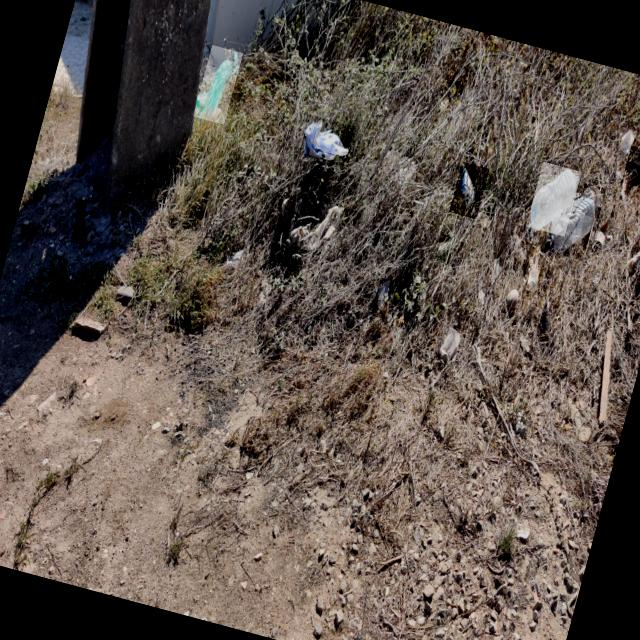Clear plastic bottle: (530, 169, 578, 229), (546, 197, 594, 252)
Cup: (439, 328, 459, 364)
Other plastic: (526, 266, 539, 290)
Plastic film: (196, 51, 238, 118), (289, 206, 343, 251), (581, 186, 602, 218), (621, 129, 634, 152)
Single-use carrier bag: (304, 118, 348, 161)
Unlabeled litter: (458, 162, 475, 219), (376, 280, 389, 317), (625, 153, 640, 185), (435, 237, 454, 262)
